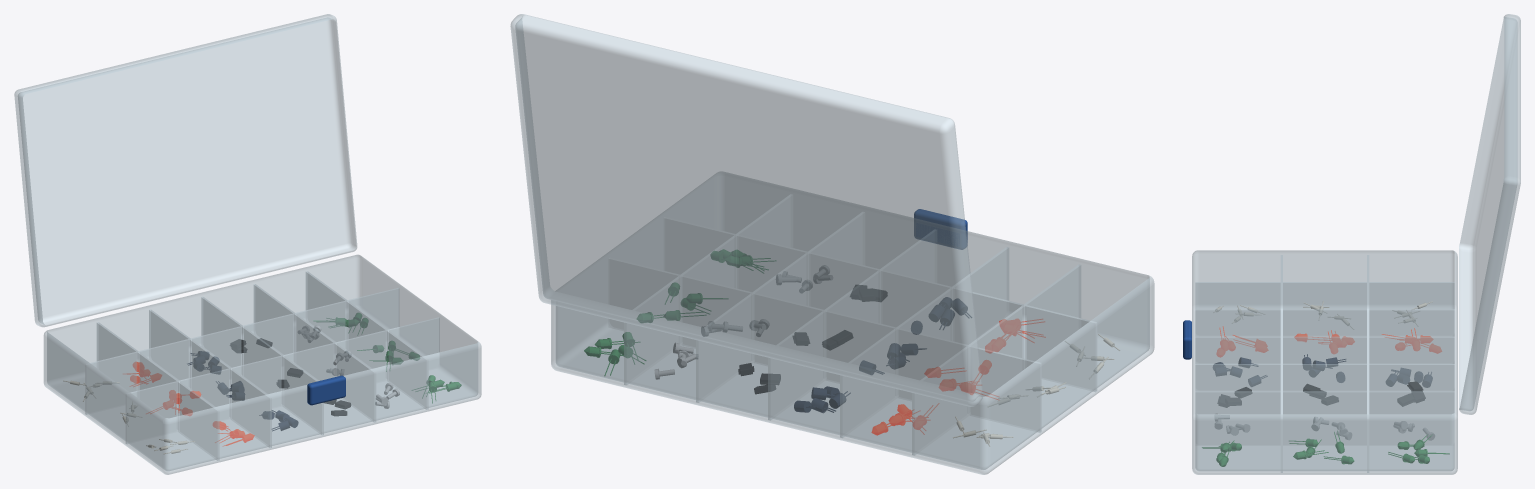
File: parts-box.glb
3 renders of one model, left to right at view 1: azimuth 30°, elevation 25°; view 2: azimuth 150°, elevation 25°; view 3: azimuth 270°, elevation 25°, orthographic. The views are drawn at different scales.
Visible parts, largest first — view 1: pb_lid, pb_tray, pb_dividers, pb_latch; view 2: pb_lid, pb_tray, pb_dividers, pb_latch; view 3: pb_dividers, pb_tray, pb_lid.
Boxes of the visible parts, x1,y1,x2,y2 form: pb_lid: (14,14,357,327); pb_tray: (43,254,481,474); pb_dividers: (85,271,439,460); pb_latch: (307,375,345,405); pb_lid: (510,14,983,406); pb_tray: (551,171,1154,474); pb_dividers: (608,194,1096,455); pb_latch: (914,209,967,249); pb_dividers: (1195,255,1454,472); pb_tray: (1192,250,1457,474); pb_lid: (1459,14,1520,414).
Bounding box in the file's own units: 0.26 × 0.2168 × 0.2226.
